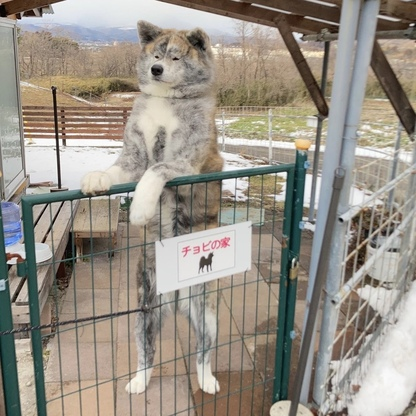akita: (77, 16, 241, 406)
